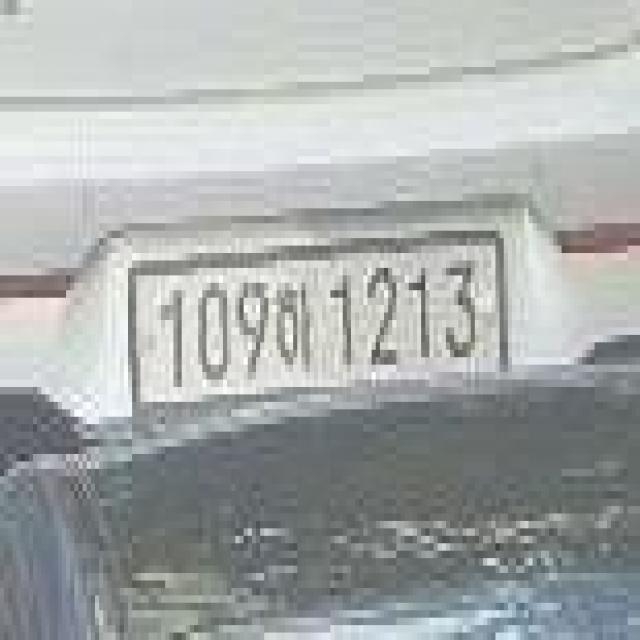illegal_plate: (126, 233, 514, 417)
